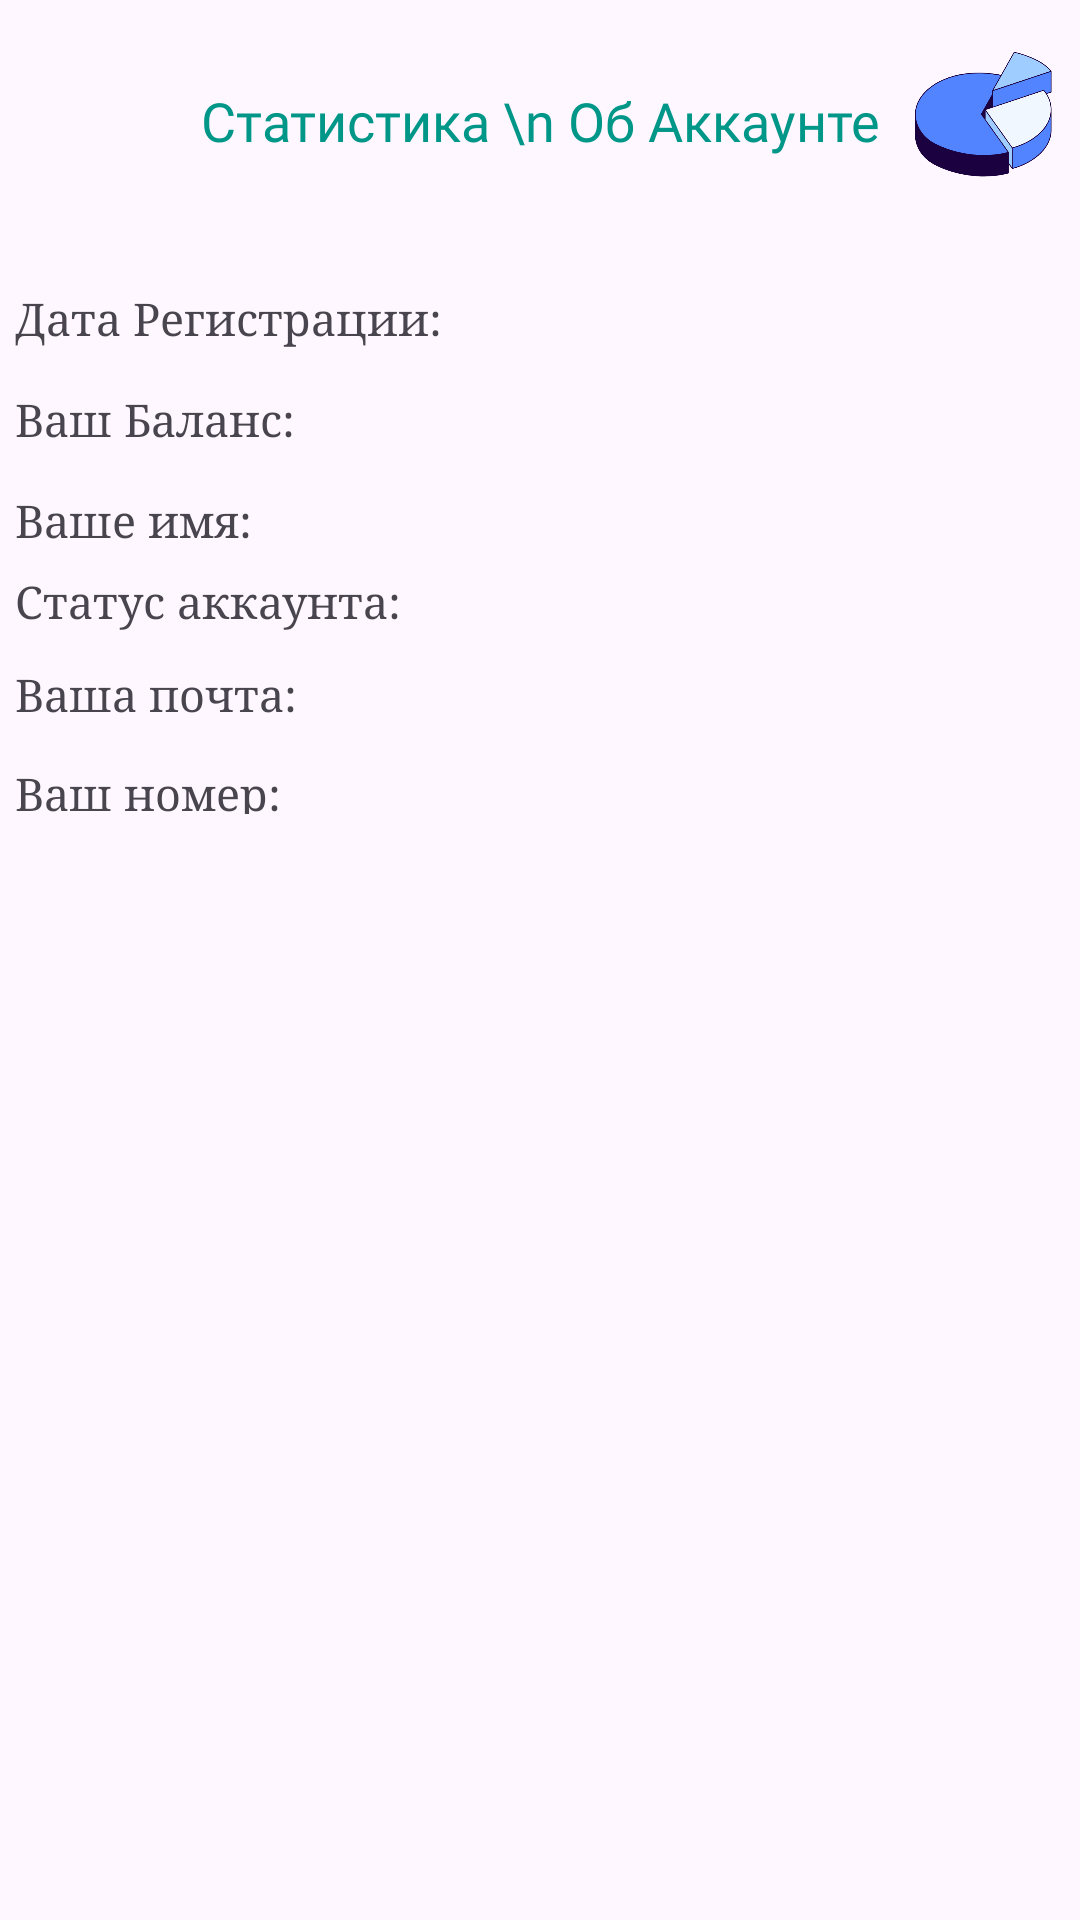

Named icons in this screenshot (1080x1920) and their bounding boxes, [left=x1, top=y1, right=x2, bottom=y2]:
im statistics: [left=915, top=52, right=1052, bottom=177]
